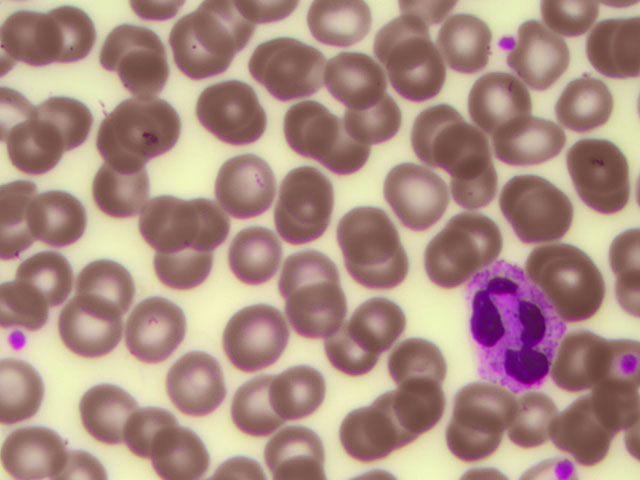Platelets: (551, 456, 583, 480), (7, 328, 33, 355)
RBC: (153, 425, 208, 480), (9, 425, 64, 480), (45, 7, 100, 61), (99, 15, 154, 69), (120, 56, 175, 110), (118, 93, 173, 147), (99, 114, 154, 168), (97, 162, 152, 216), (38, 90, 93, 144), (10, 117, 65, 171), (31, 192, 86, 246), (25, 252, 80, 306), (63, 307, 118, 361), (80, 258, 135, 312), (125, 298, 180, 352), (157, 248, 212, 302), (130, 196, 185, 250), (181, 196, 236, 250), (219, 157, 274, 211), (208, 101, 263, 155), (199, 74, 254, 128), (166, 26, 221, 80), (182, 1, 237, 55), (242, 29, 297, 83), (284, 41, 339, 95), (321, 47, 376, 101), (369, 16, 424, 70), (397, 48, 452, 102), (430, 8, 485, 62), (474, 76, 529, 130), (502, 116, 557, 170), (556, 77, 611, 131), (513, 34, 568, 88), (581, 16, 636, 70), (585, 140, 640, 194), (500, 175, 555, 229), (458, 210, 513, 264), (413, 239, 468, 293), (388, 172, 443, 226), (447, 158, 502, 212), (432, 118, 487, 172), (407, 101, 462, 155), (341, 208, 396, 262), (356, 243, 411, 297), (281, 164, 336, 218), (261, 201, 316, 255), (320, 122, 375, 176), (350, 89, 405, 143), (283, 100, 338, 154), (280, 240, 335, 294), (296, 272, 351, 326), (231, 309, 286, 363), (276, 359, 331, 413), (218, 388, 273, 442), (275, 419, 330, 473), (171, 355, 226, 409), (121, 423, 176, 477), (85, 377, 140, 431), (553, 260, 608, 314), (552, 338, 607, 392), (585, 377, 640, 431), (550, 395, 605, 449), (499, 390, 554, 444), (467, 376, 522, 430), (447, 416, 502, 470), (396, 384, 451, 438), (388, 334, 443, 388), (362, 297, 417, 351), (323, 320, 378, 374), (369, 394, 424, 448), (344, 410, 399, 464), (545, 1, 600, 55), (1, 9, 55, 63), (314, 1, 369, 54)
WBC: (467, 267, 566, 390)
